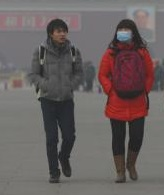person: (98, 17, 155, 186), (32, 18, 85, 183), (132, 9, 155, 41), (151, 60, 163, 92), (85, 61, 96, 93)
